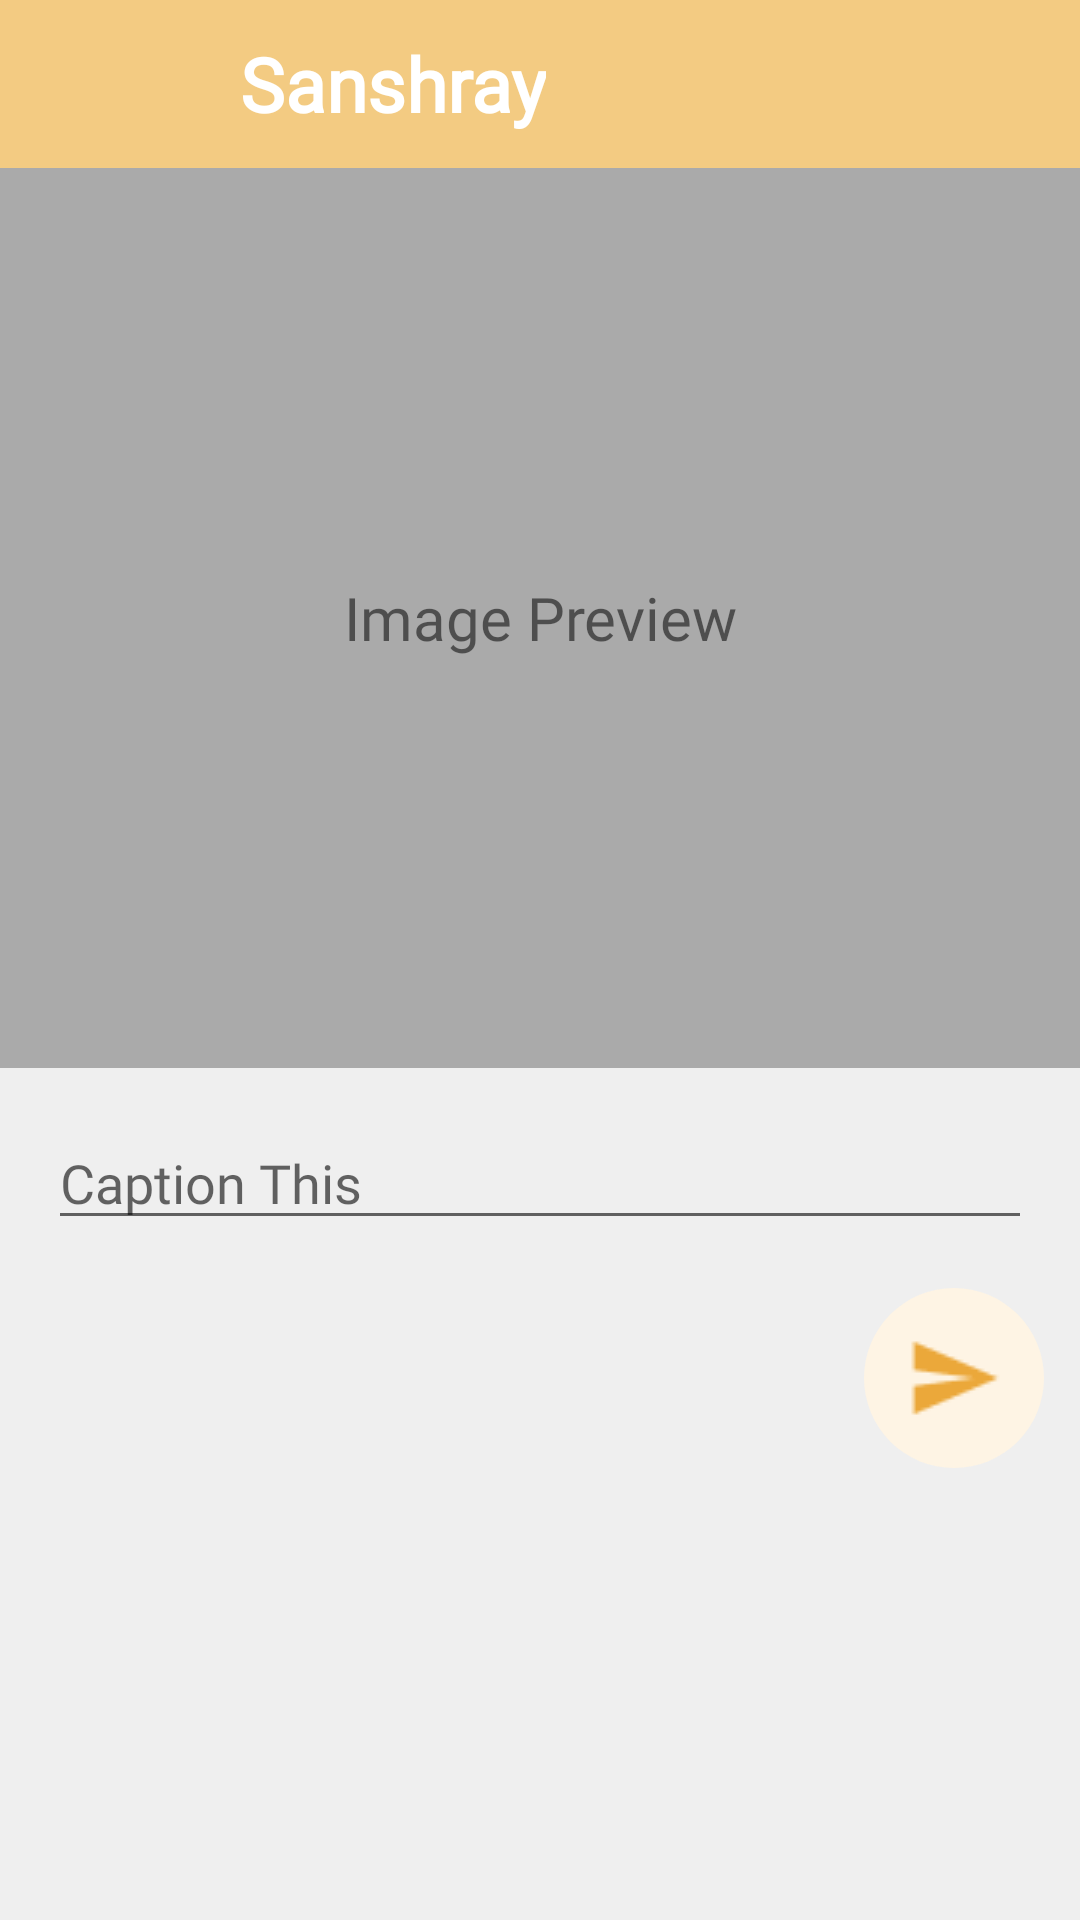

Point at icon controls on the screen. Image size 1080*1920, points as [x,y].
send: [955,1378]
